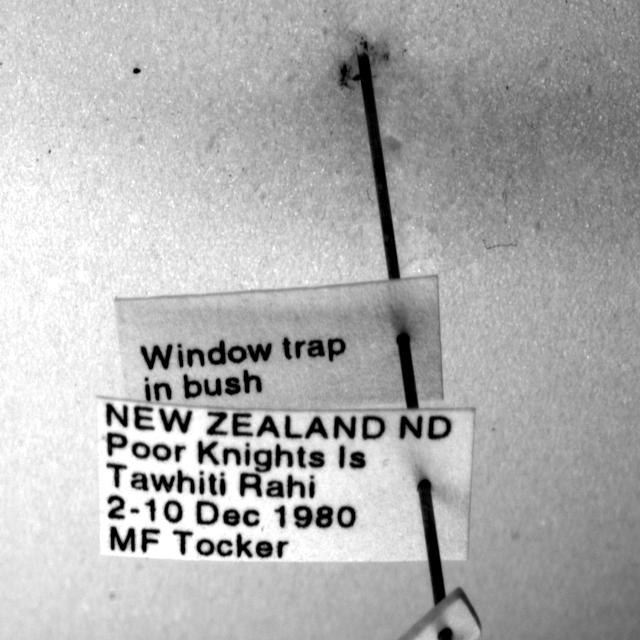typed_label: (98, 398, 475, 561), (115, 276, 442, 411)
